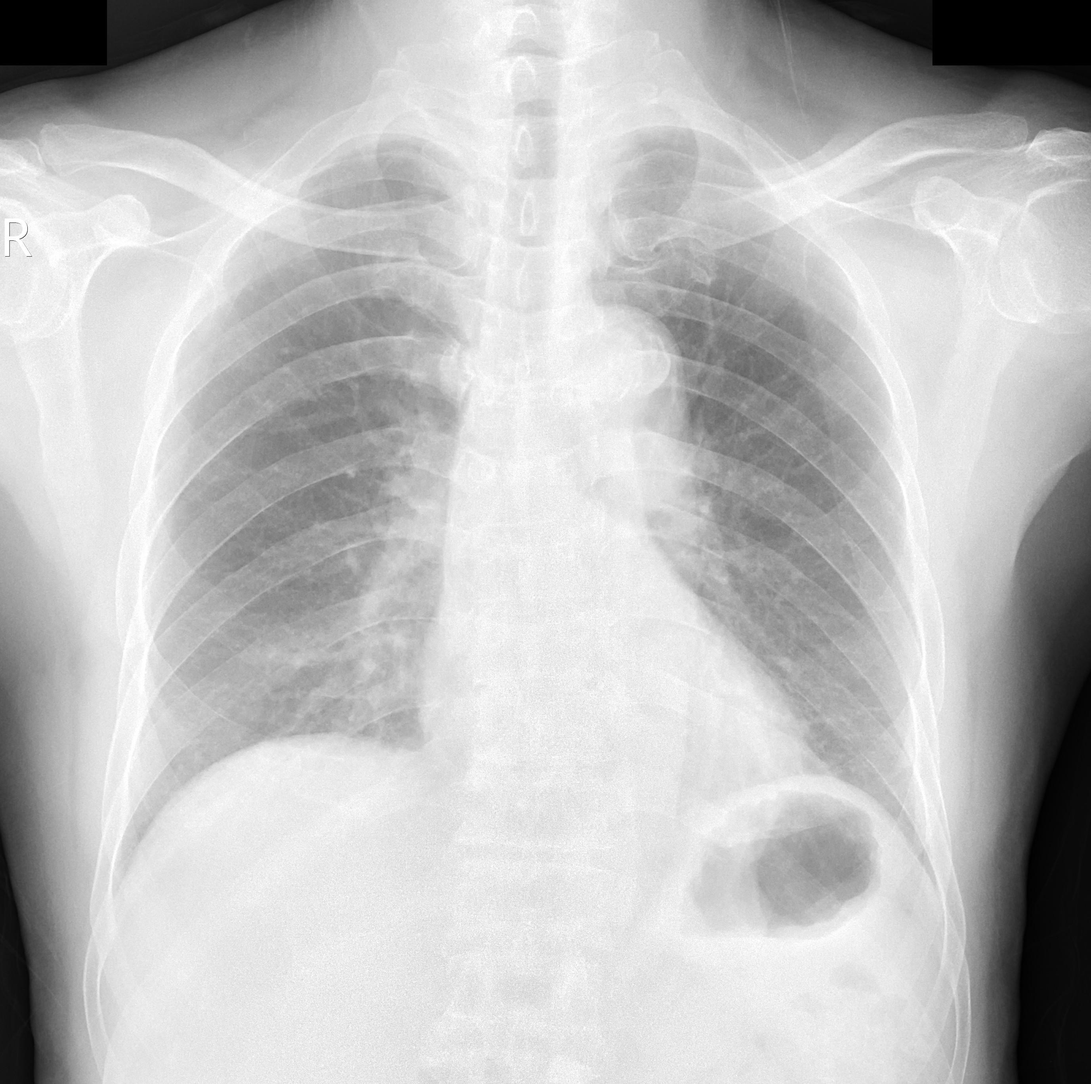Aortic enlargement: (556, 303, 690, 430)
